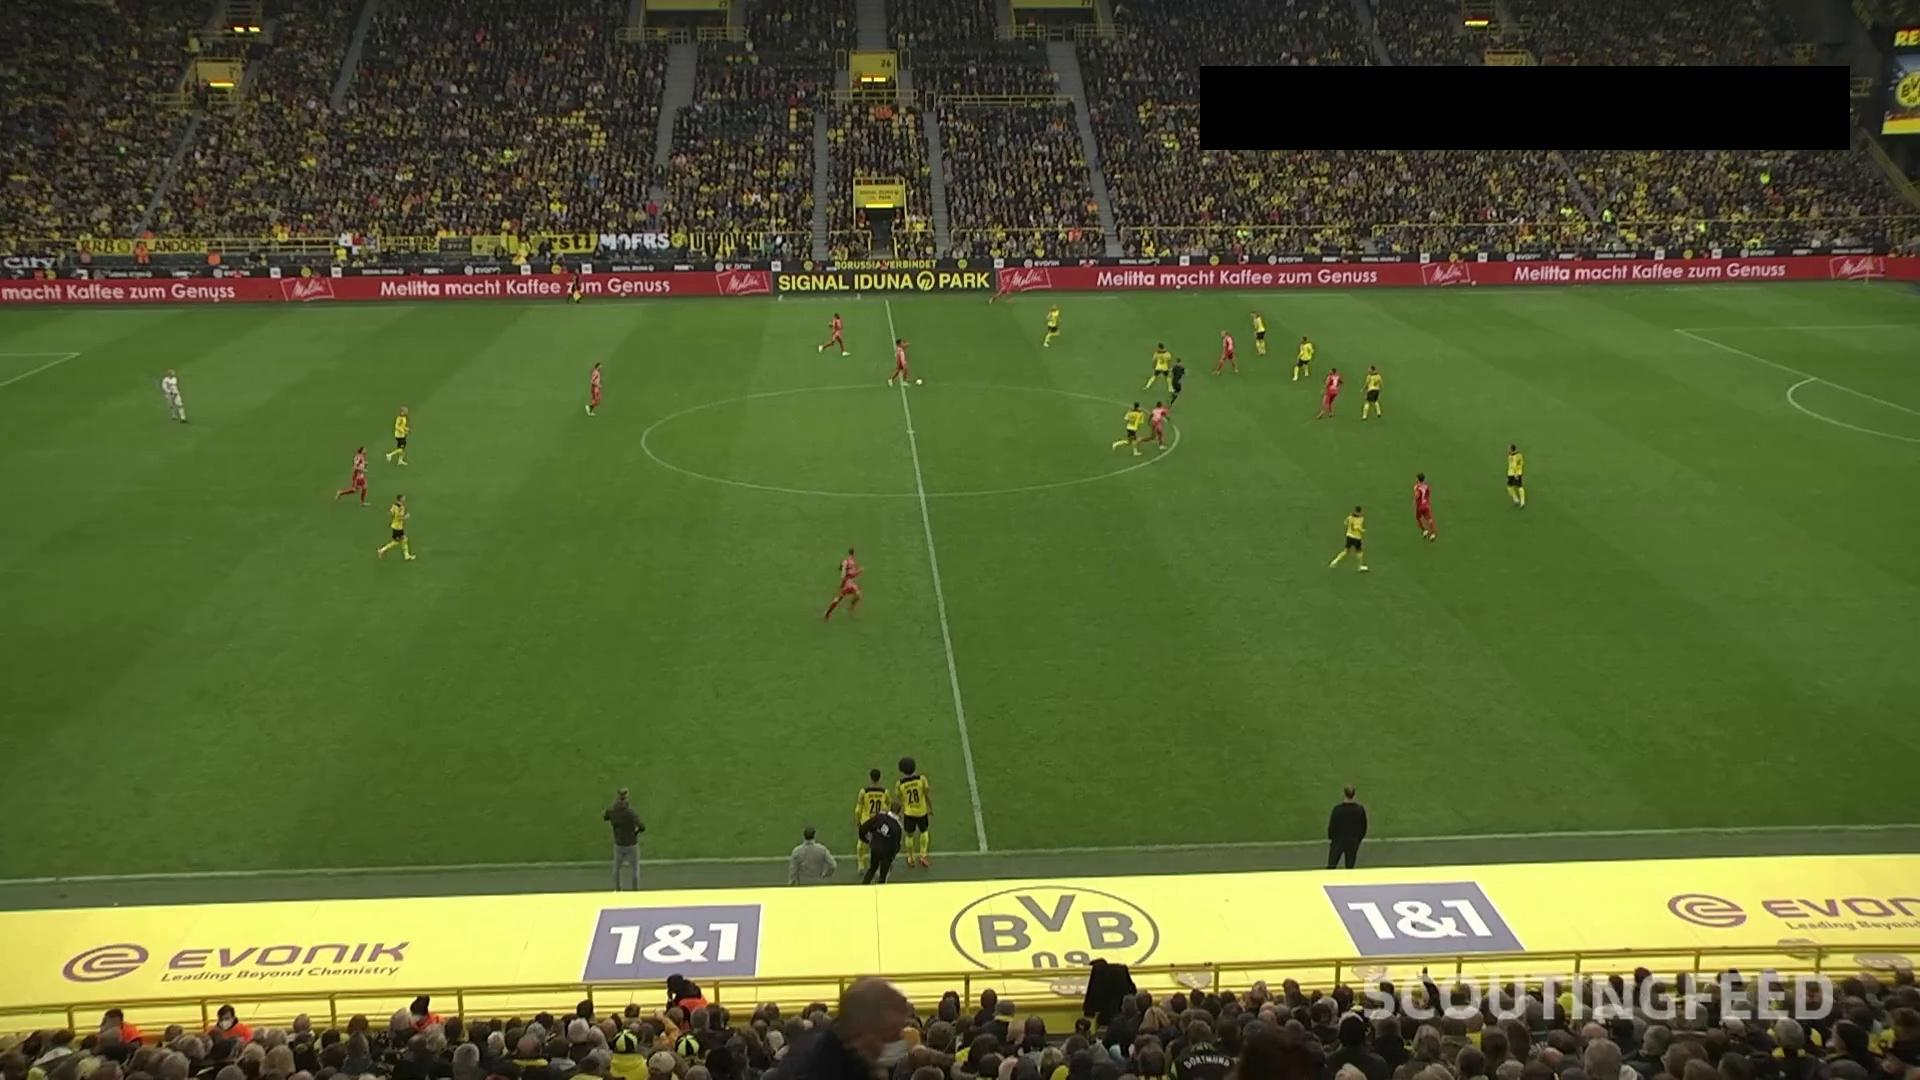Location-of-ball: (909, 367, 938, 396)
